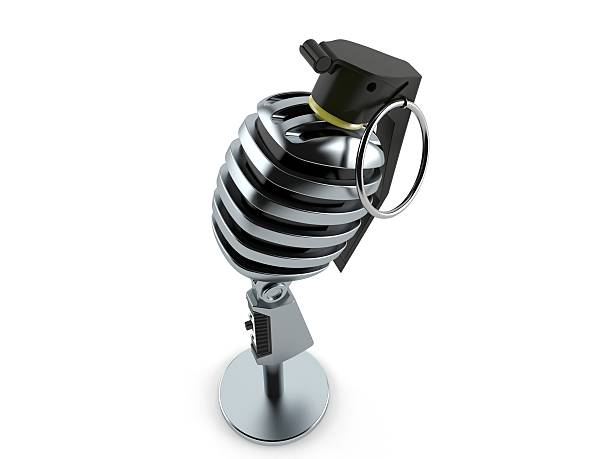e1: (209, 41, 429, 283)
